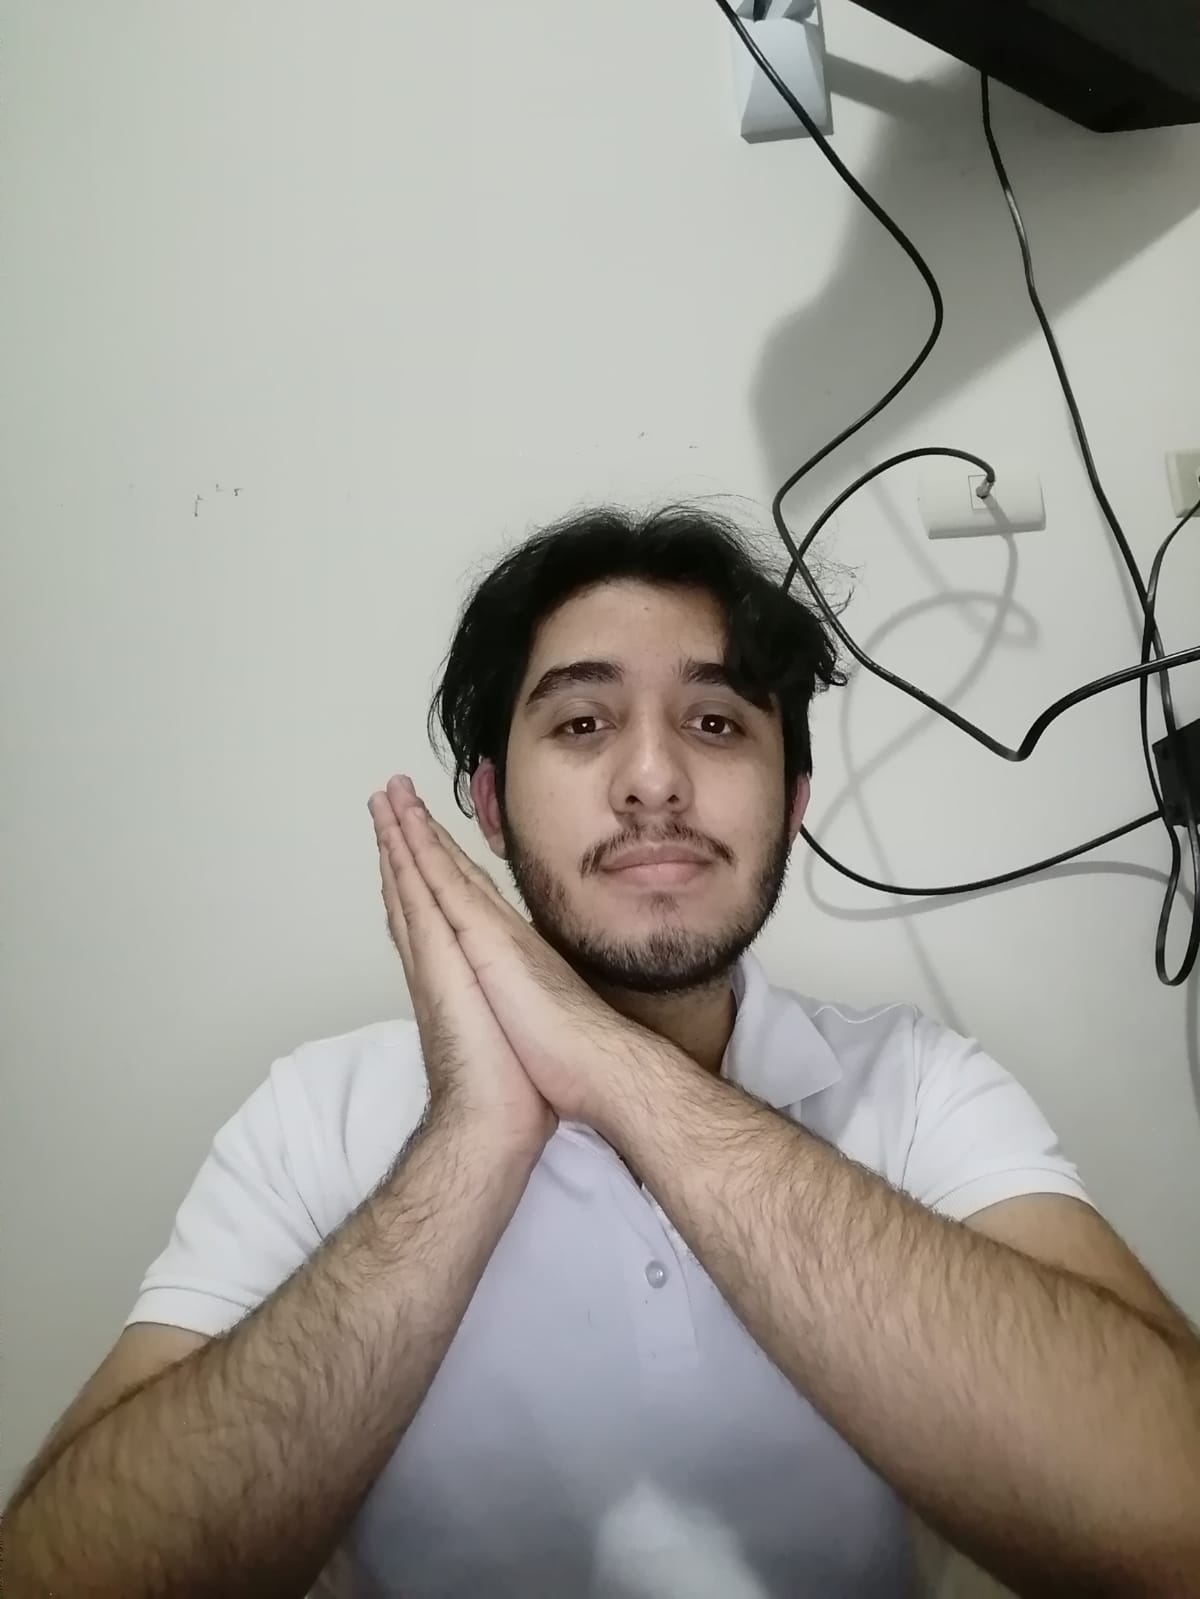Bed: (306, 754, 737, 1184)
